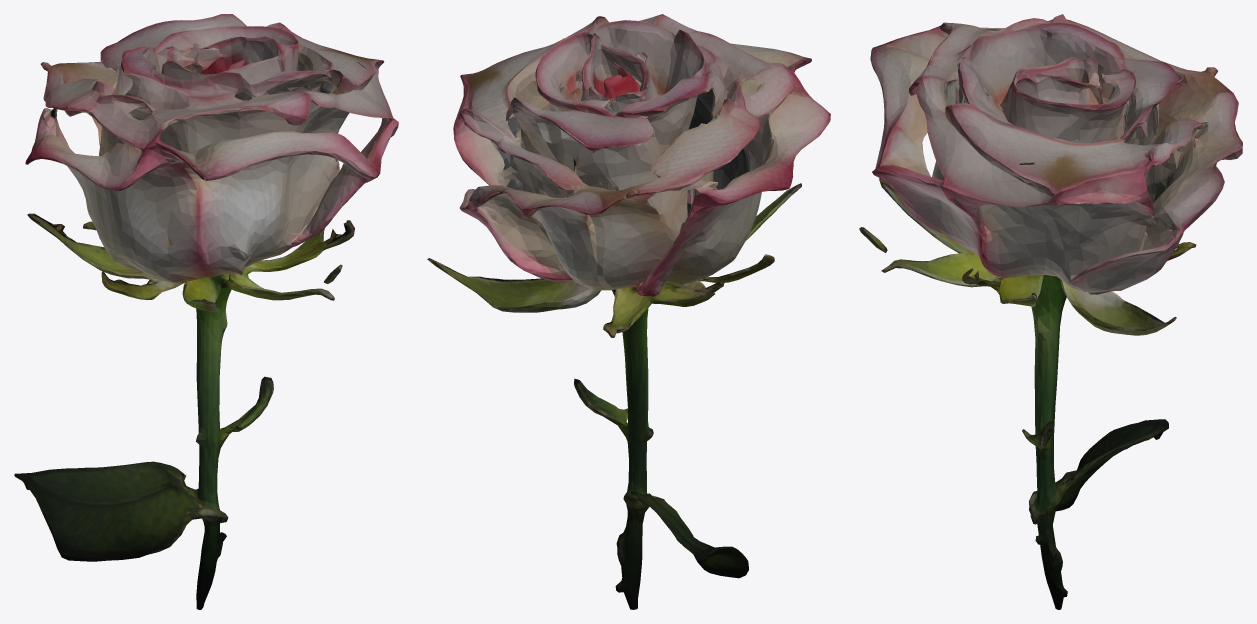
The picture shows the model from 3 angles, left to right: view 1: azimuth 30°, elevation 25°; view 2: azimuth 150°, elevation 25°; view 3: azimuth 270°, elevation 25°; orthographic projection. The views are drawn at different scales.
Visible parts, largest first — view 1: world; view 2: world; view 3: world.
Part boxes in pixels (box(x1,y1,x2,y2)): world: box(14, 14, 398, 609); world: box(427, 14, 830, 609); world: box(859, 14, 1242, 609).
Size of the model in its own units: 0.6373 by 0.9918 by 0.611.
1 material, 1 textured.
